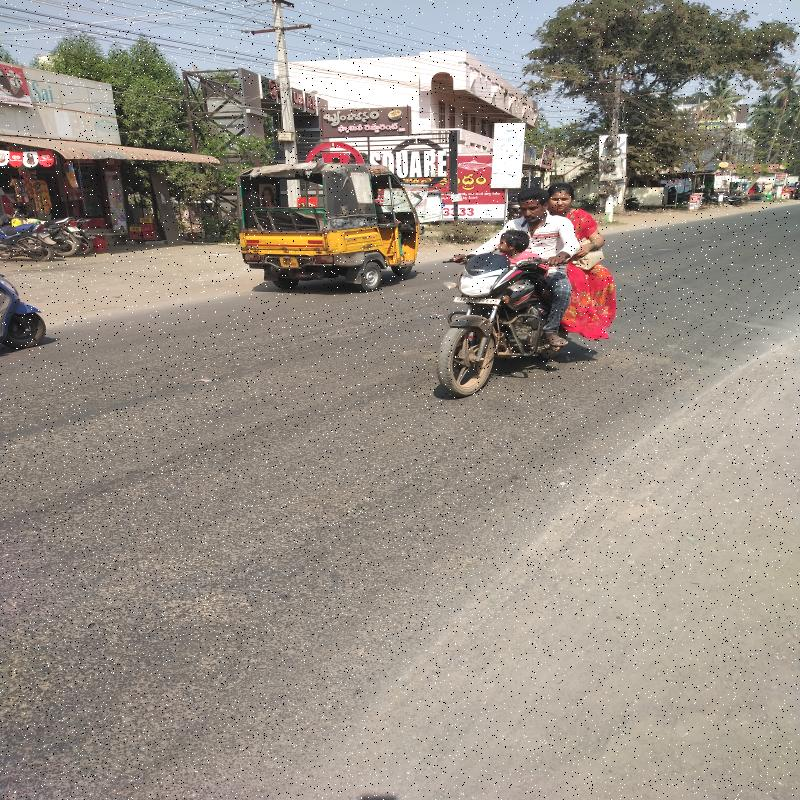auto: (239, 165, 413, 285)
